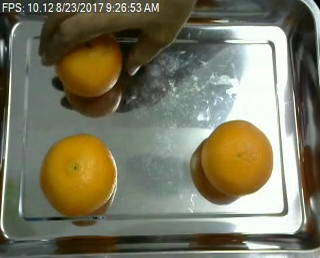Orange: (40, 134, 118, 218), (201, 118, 273, 197)
